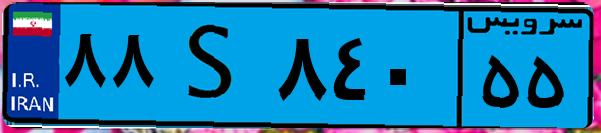0: (385, 28, 445, 110)
4: (330, 28, 385, 110)
5: (475, 38, 525, 113), (525, 38, 570, 115)
8: (270, 28, 330, 110), (57, 26, 110, 100), (110, 28, 158, 98)
S: (158, 12, 270, 120)
